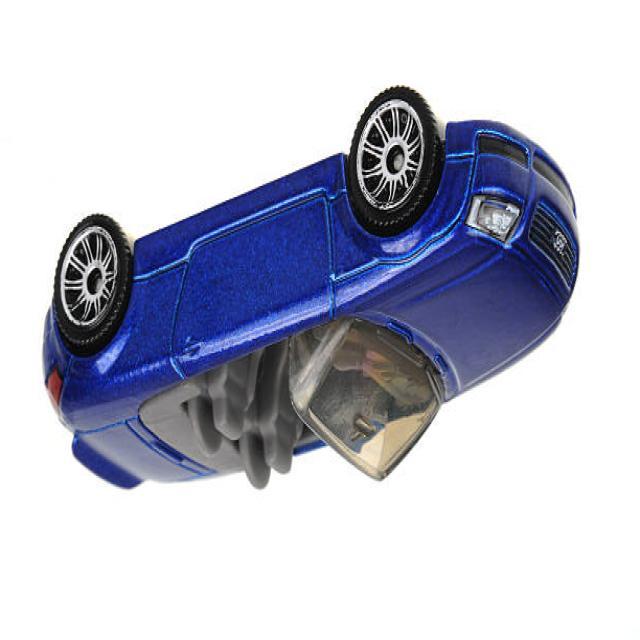Car: (42, 85, 581, 494)
